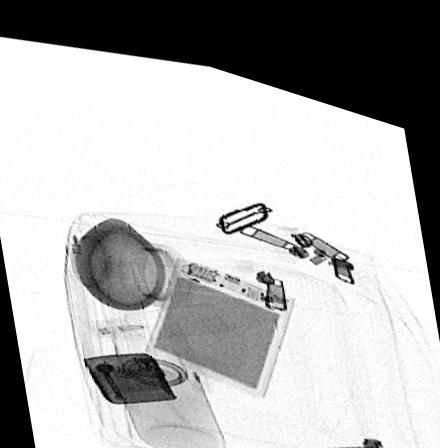Lighter: (82, 343, 177, 394)
Powerbank: (143, 243, 295, 381)
Sprayer: (107, 317, 226, 445), (82, 288, 233, 332)
